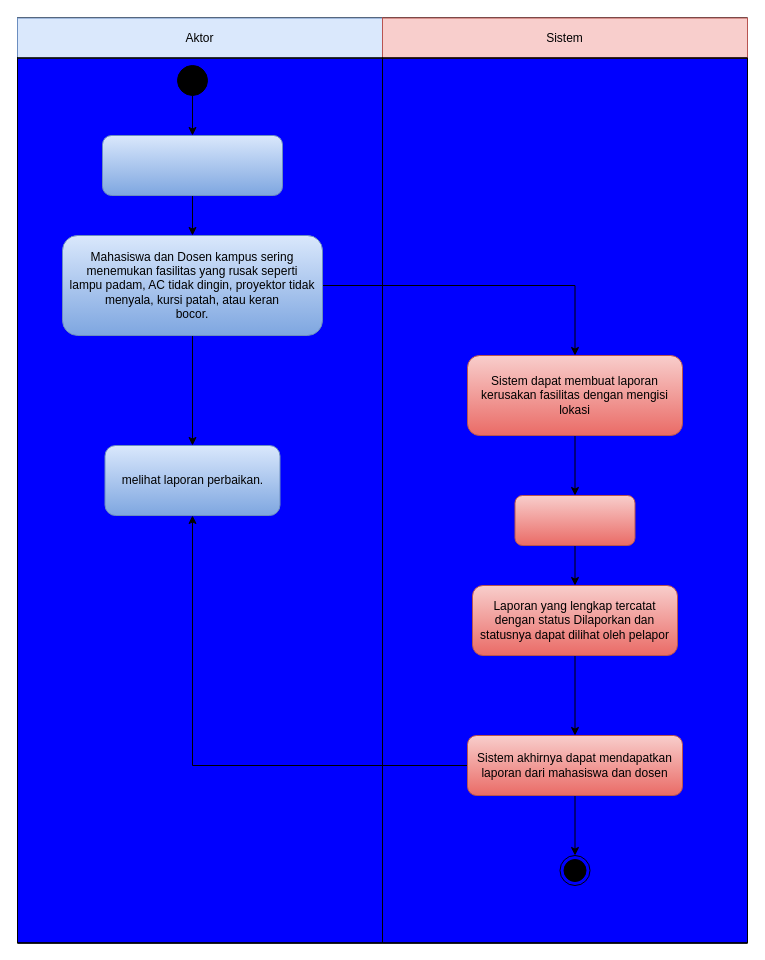
This 765x960 diagram has some shape labels left out. The centre of each missing label's shape, as x and y in pixels:
"jenis kerusakan" goes at (x=574, y=520).
"Melaporkan ketika ada fasilitas yang mengalami kerusakan" goes at (x=192, y=165).
